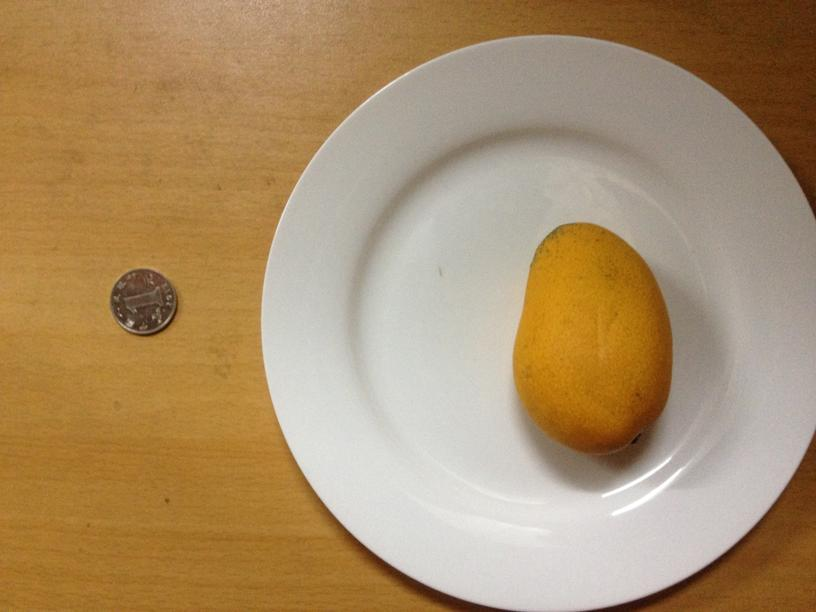coin: (105, 264, 179, 337)
mango: (511, 218, 673, 456)
